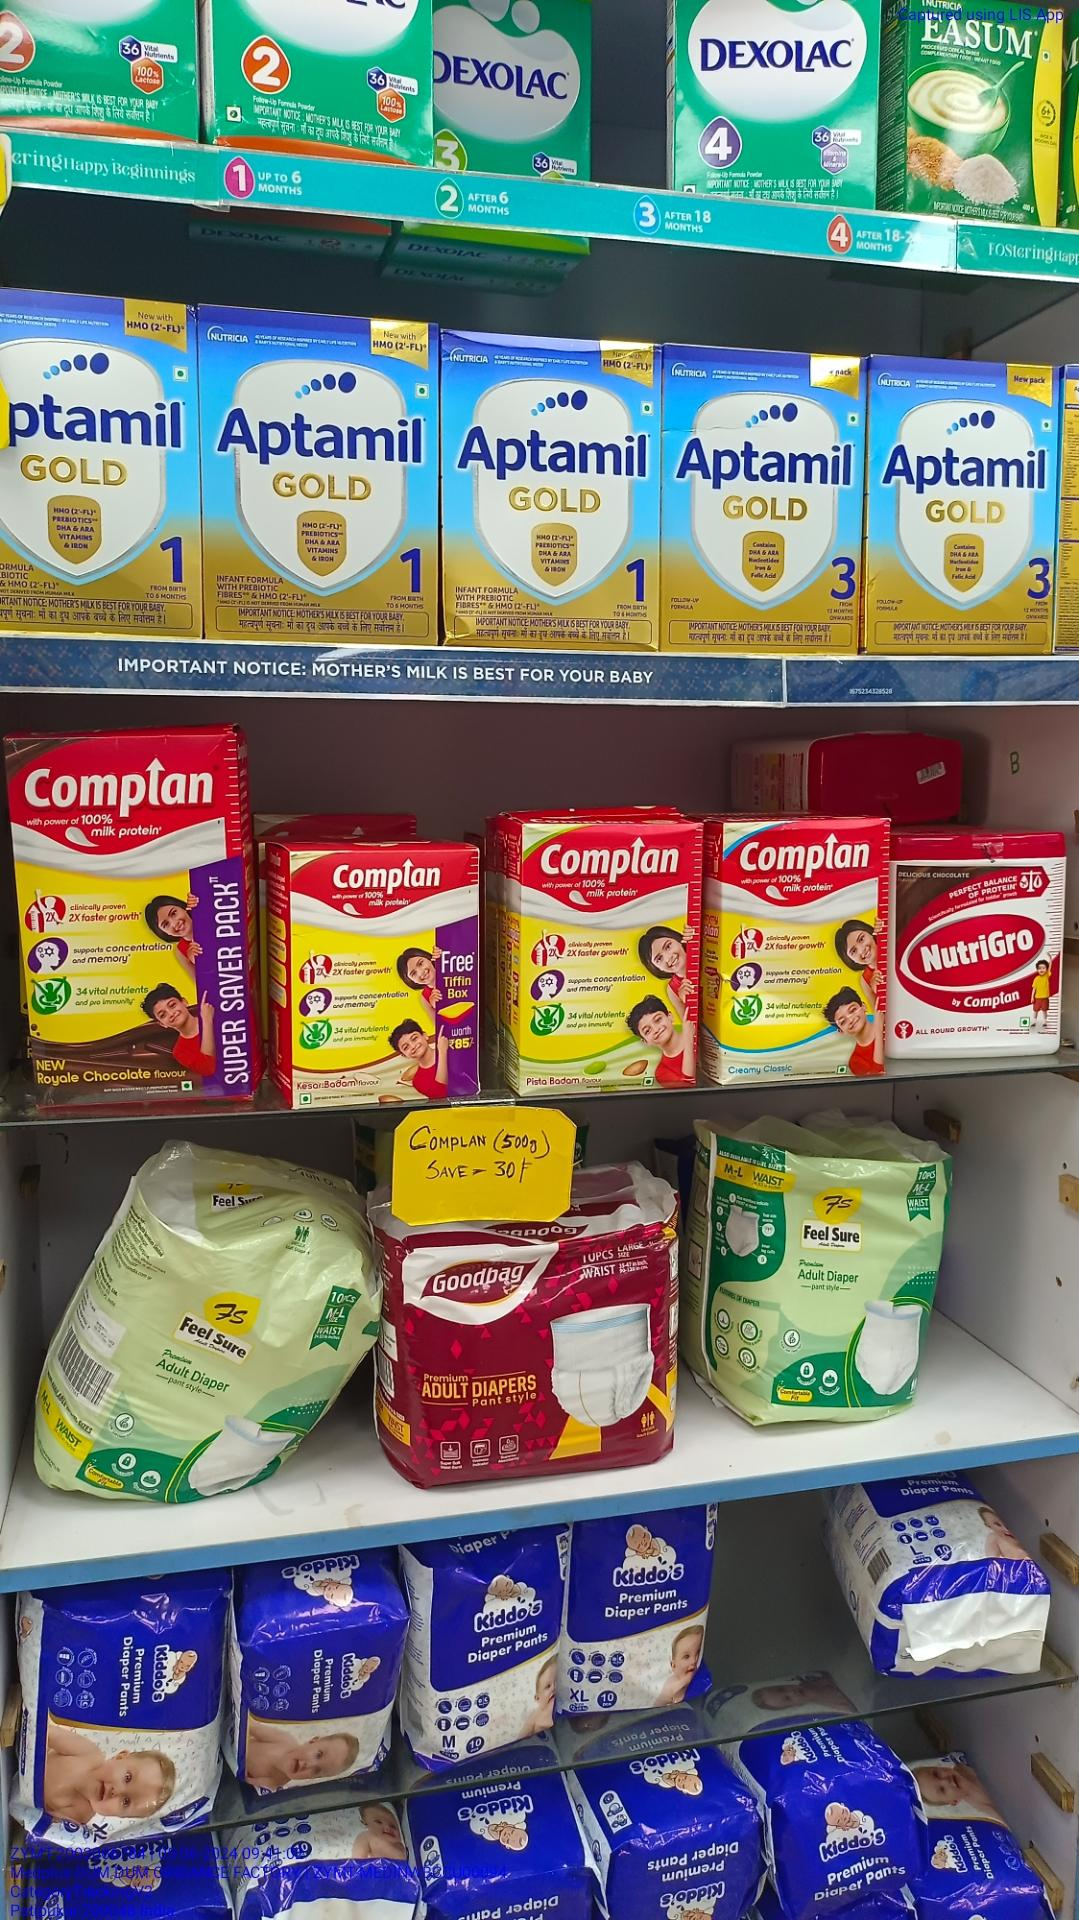COMPLAN_CHOCOLATE_1_KG_PACK: (8, 735, 256, 1102)
COMPLAN_CREAMY_CLASSIC_500_G_PACK: (716, 818, 890, 1079)
COMPLAN_KESAR_BADAM_200_GMS_PACK: (288, 847, 478, 1101)
COMPLAN_PISTA_BADAM_500_GMS_PACK: (518, 822, 698, 1092)
